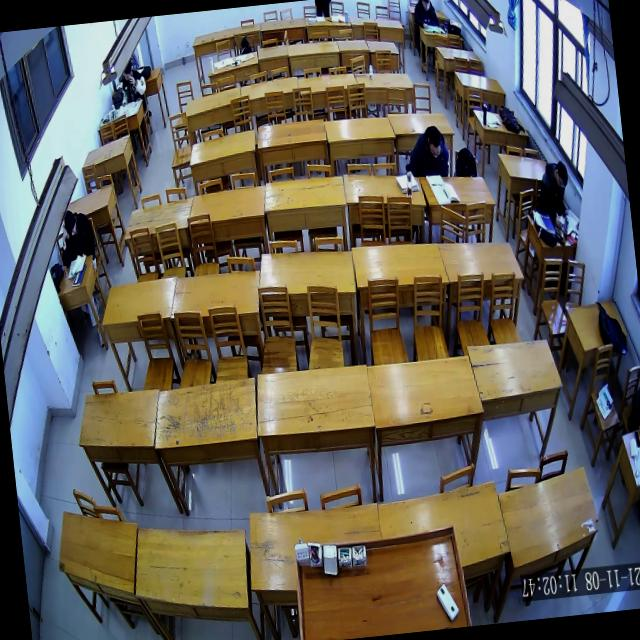down: (424, 124, 444, 161), (552, 158, 570, 191), (61, 208, 79, 240), (121, 60, 134, 82), (420, 0, 431, 12)
sit: (532, 158, 574, 231), (404, 122, 451, 182), (56, 206, 98, 268), (116, 55, 149, 109), (411, 0, 441, 30)
